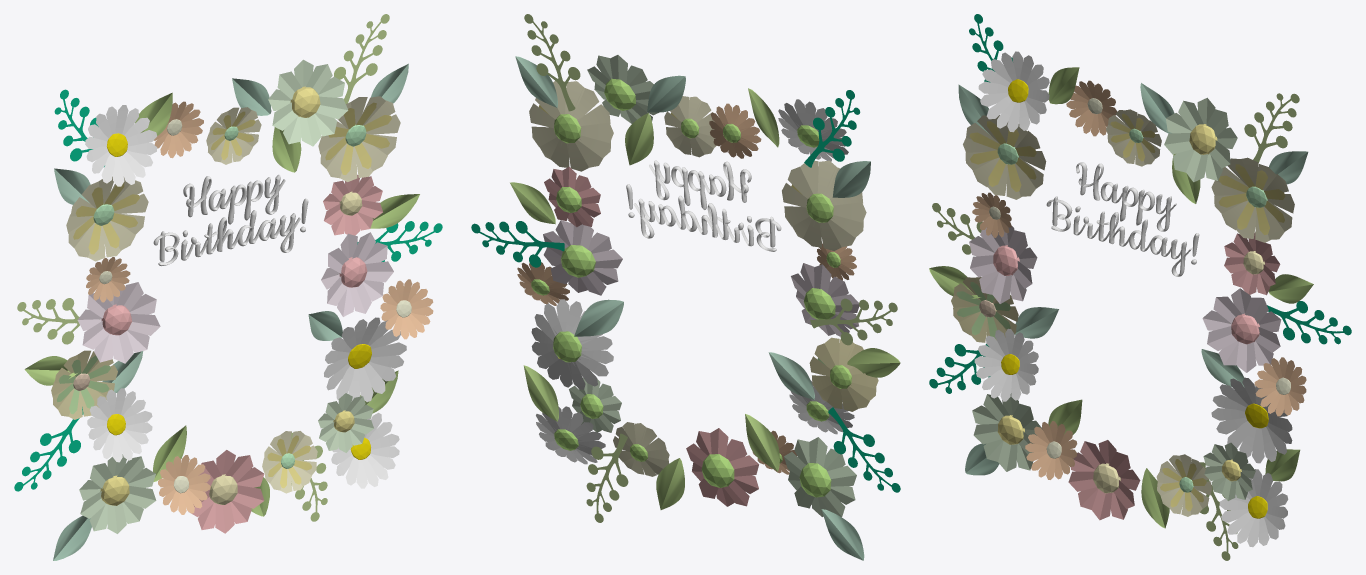
Rendered from 211118_sample001.glb.
3 renders of one model, left to right at view 1: azimuth 30°, elevation 25°; view 2: azimuth 150°, elevation 25°; view 3: azimuth 330°, elevation 25°, orthographic.
Visible parts, largest first — view 1: Text.1, Flower01_3_2-08, Flower01-17, Flower01_4_2.1-08, Flower01_3-11, Flower01_4-17, Flower01_8-11, Flower01_7-10, Flower01_4_2-08, Flower02-14, Flower02_4-14, Flower01_6-08 (+35 smaller); view 2: Text.1, Flower02_4-14, Flower02-14, Flower01_3_2-08, Flower01_8-11, Flower01_4-17, Flower01_7-10, Flower02_3-07, Leaf_short (×2), Flower01-17, Flower01_3-11, Flower01_6-08 (+35 smaller); view 3: Text.1, Flower01_8-11, Flower01_3_2-08, Flower01_4_2.1-08, Flower01-17, Flower01_7-10, Flower01_3-11, Flower02_4-14, Flower01_4_2-08, Flower02-14, Flower01_6-08, Flower01_4-17 (+37 smaller).
Part boxes in pixels (x1=…): Text.1: x1=153, y1=174, x2=308, y2=266; Flower01_3_2-08: x1=324, y1=317, x2=406, y2=402; Flower01-17: x1=268, y1=59, x2=348, y2=146; Flower01_4_2.1-08: x1=85, y1=105, x2=157, y2=186; Flower01_3-11: x1=77, y1=282, x2=160, y2=363; Flower01_4-17: x1=79, y1=454, x2=156, y2=533; Flower01_8-11: x1=321, y1=232, x2=393, y2=316; Flower01_7-10: x1=188, y1=450, x2=264, y2=533; Flower01_4_2-08: x1=87, y1=388, x2=152, y2=462; Flower02-14: x1=66, y1=176, x2=148, y2=261; Flower02_4-14: x1=318, y1=96, x2=400, y2=181; Flower01_6-08: x1=331, y1=412, x2=399, y2=488; Text.1: x1=626, y1=160, x2=781, y2=251; Flower02_4-14: x1=529, y1=81, x2=613, y2=171; Flower02-14: x1=782, y1=160, x2=866, y2=250; Flower01_3_2-08: x1=531, y1=299, x2=613, y2=389; Flower01_8-11: x1=543, y1=220, x2=622, y2=295; Flower01_4-17: x1=784, y1=437, x2=856, y2=516; Flower01_7-10: x1=686, y1=428, x2=758, y2=506; Flower02_3-07: x1=809, y1=337, x2=878, y2=411; Leaf_short (×2): x1=625, y1=75, x2=685, y2=165; Flower01-17: x1=587, y1=55, x2=659, y2=123; Flower01_3-11: x1=791, y1=263, x2=859, y2=336; Flower01_6-08: x1=536, y1=406, x2=605, y2=464; Text.1: x1=1046, y1=162, x2=1199, y2=276; Flower01_8-11: x1=1202, y1=288, x2=1281, y2=372; Flower01_3_2-08: x1=1211, y1=377, x2=1292, y2=463; Flower01_4_2.1-08: x1=978, y1=51, x2=1049, y2=132; Flower01-17: x1=1164, y1=97, x2=1237, y2=182; Flower01_7-10: x1=1068, y1=440, x2=1140, y2=520; Flower01_3-11: x1=969, y1=226, x2=1037, y2=303; Flower02_4-14: x1=1211, y1=157, x2=1294, y2=242; Flower01_4_2-08: x1=974, y1=328, x2=1038, y2=401; Flower02-14: x1=963, y1=115, x2=1046, y2=199; Flower01_6-08: x1=1219, y1=469, x2=1288, y2=547; Flower01_4-17: x1=972, y1=393, x2=1042, y2=471.
Size of the model in its own units: 1.36 by 1.5 by 0.1921.
